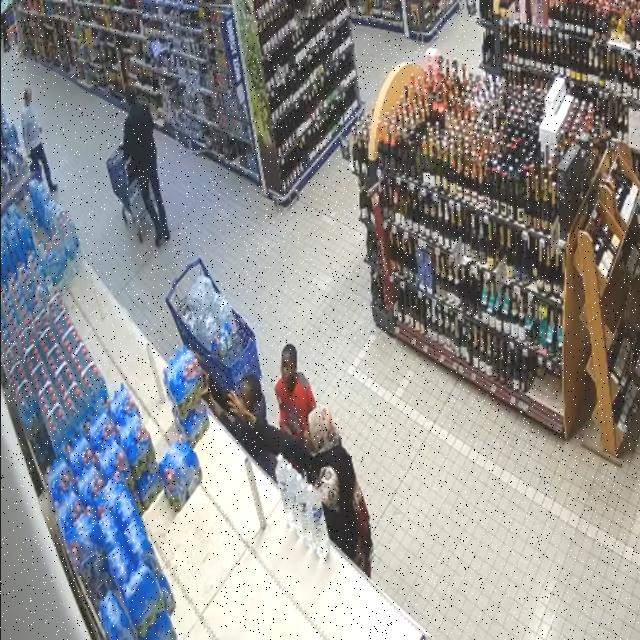hands: (228, 392, 256, 424), (203, 370, 211, 398)
person: (230, 393, 372, 577), (124, 85, 170, 247), (203, 380, 275, 479), (275, 344, 315, 437), (22, 88, 57, 192)
